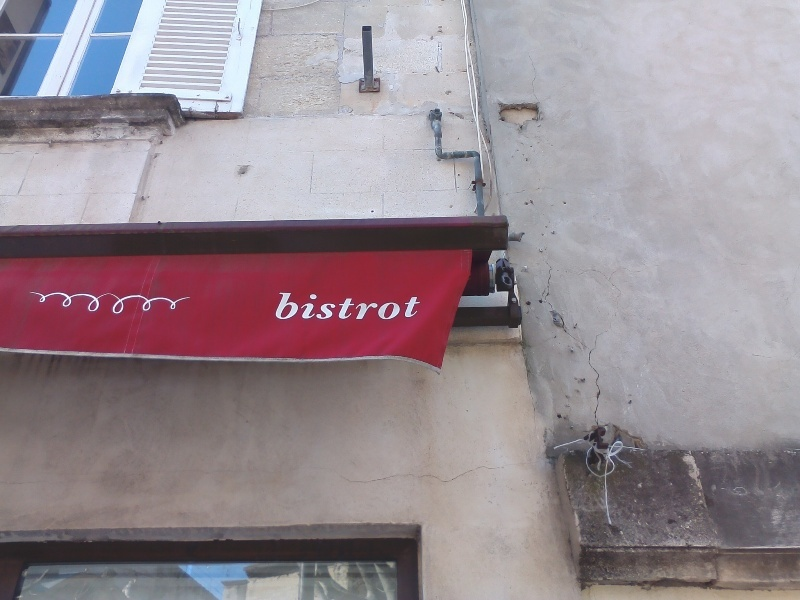text: (289, 292, 304, 326), (305, 292, 320, 326), (321, 292, 336, 326), (337, 292, 352, 326), (353, 292, 368, 326), (369, 292, 384, 326), (385, 292, 400, 326), (401, 292, 416, 326), (417, 292, 432, 326), (279, 292, 288, 326), (433, 292, 436, 326)
